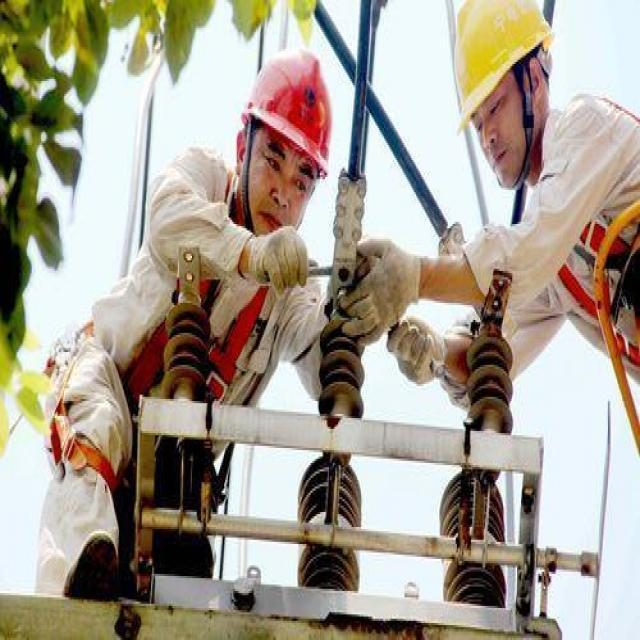hat: (224, 34, 347, 241), (443, 0, 561, 188)
